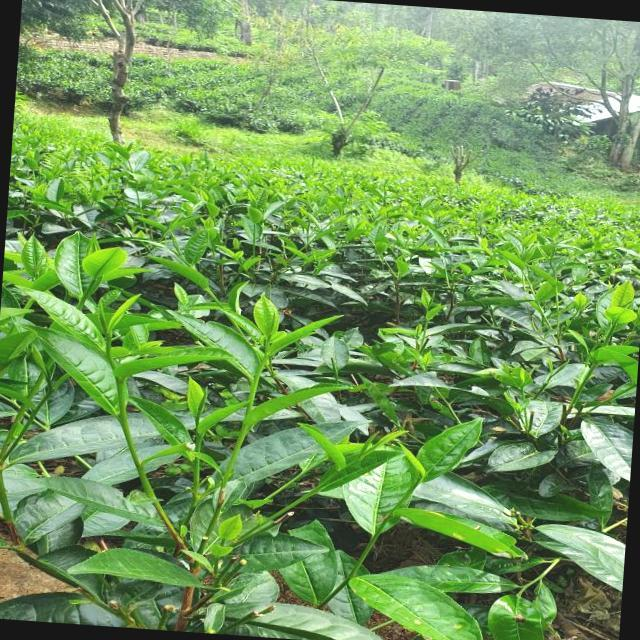Stem: (105, 354, 116, 370), (405, 484, 419, 495), (303, 491, 315, 499), (76, 299, 84, 310), (251, 384, 256, 401), (196, 440, 200, 455), (608, 327, 615, 335), (424, 320, 429, 329)
